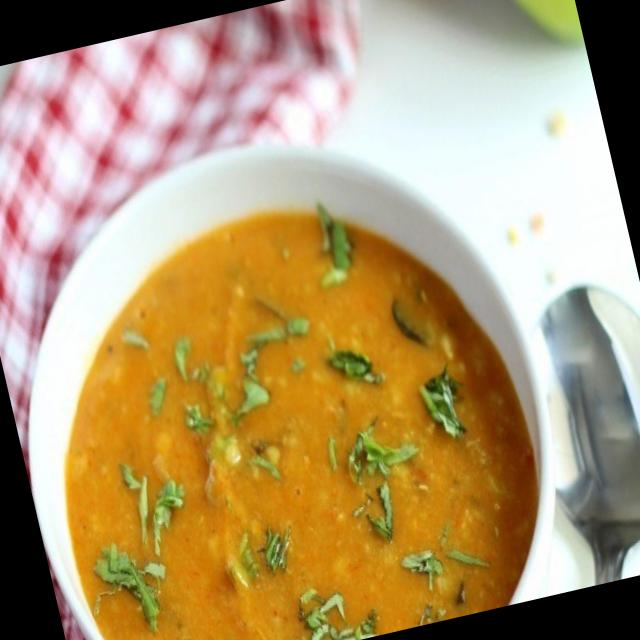dal: (7, 163, 564, 640)
